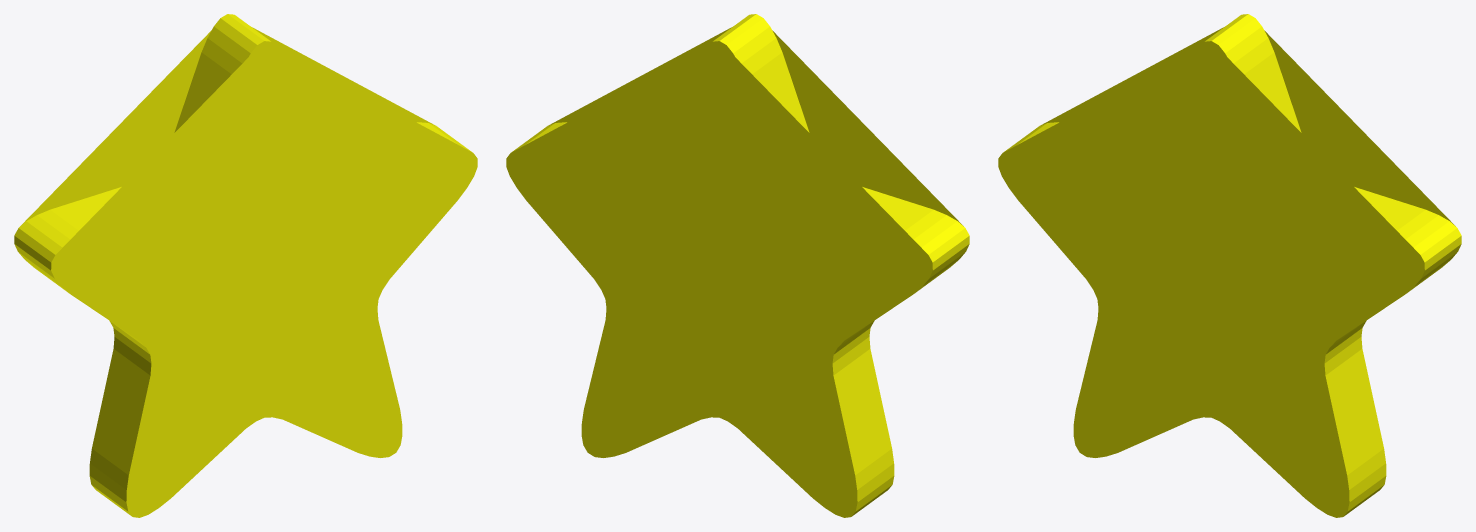
File: Star.fbx
3 renders of one model, left to right at view 1: azimuth 30°, elevation 25°; view 2: azimuth 150°, elevation 25°; view 3: azimuth 330°, elevation 25°, orthographic.
Parts seen in each view (by area): view 1: Star; view 2: Star; view 3: Star.
Boxes of the visible parts, x1,y1,x2,y2 form: Star: [14, 14, 477, 517]; Star: [506, 14, 969, 517]; Star: [998, 14, 1461, 517].
Bounding box in the file's own units: 200 × 200 × 30.
